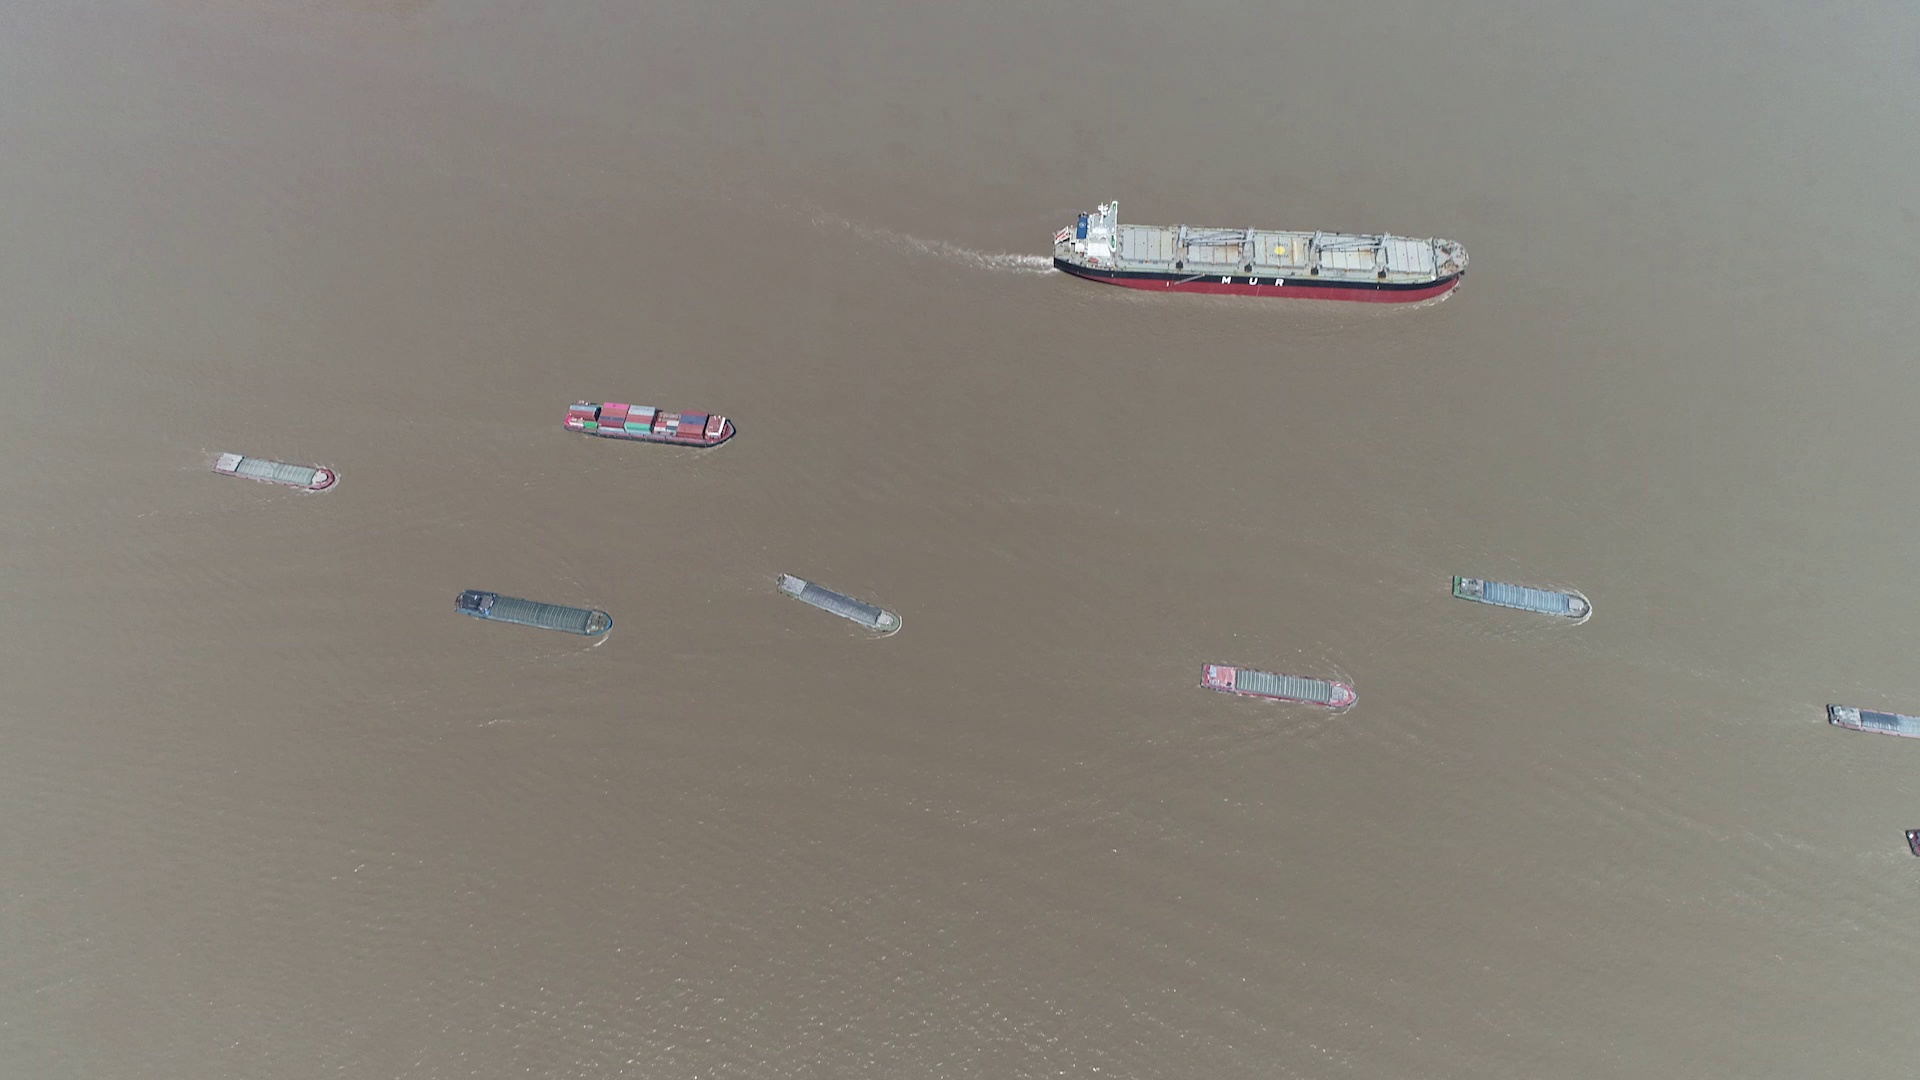ship: (1052, 214, 1470, 305), (564, 400, 736, 447), (778, 572, 905, 636), (458, 589, 615, 640), (1204, 665, 1358, 707), (1451, 575, 1592, 620), (210, 451, 336, 491), (1826, 703, 1917, 738)
